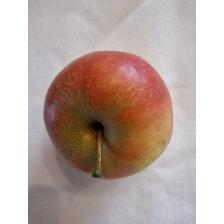Apfel: (42, 47, 174, 181)
